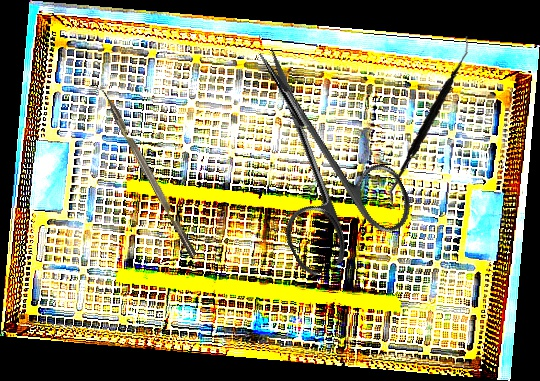Chopper: (88, 78, 197, 263)
Iris Scissors: (205, 22, 422, 281)
Spatula Surgical: (376, 35, 484, 210)
